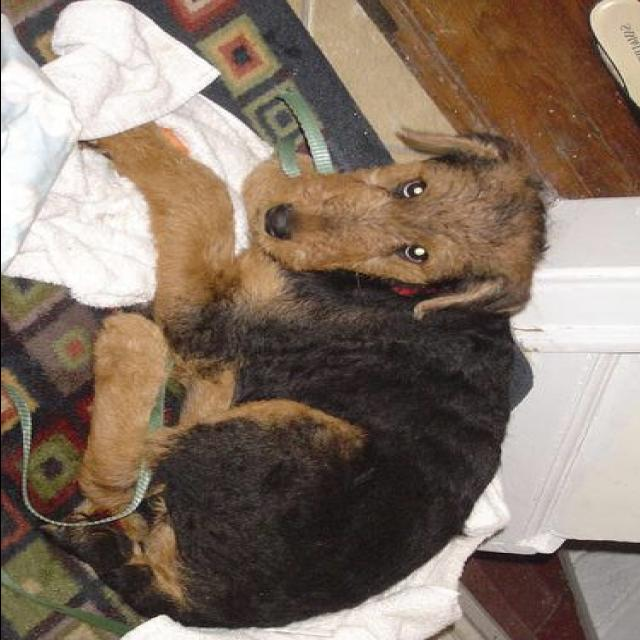airedale: (39, 121, 556, 630)
